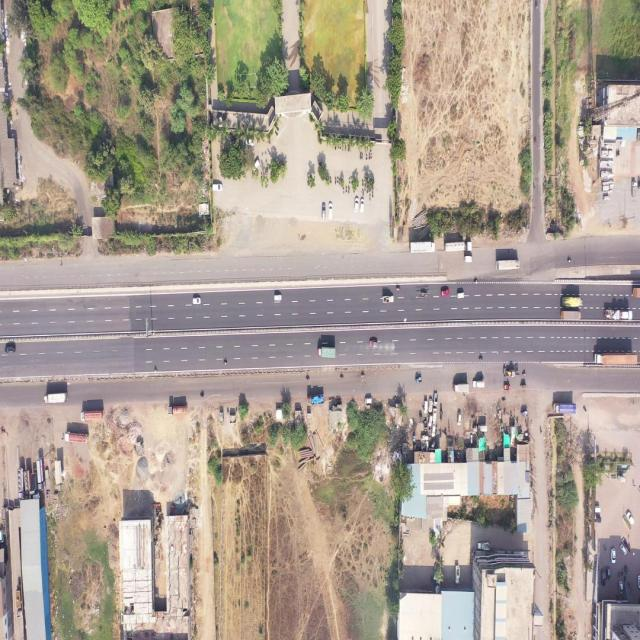3W: (520, 408, 529, 418), (414, 375, 423, 384), (503, 383, 510, 392), (520, 383, 527, 389)
Cars: (625, 506, 634, 526), (619, 541, 628, 556), (244, 135, 254, 147), (609, 546, 616, 563), (327, 201, 333, 220), (600, 567, 606, 586), (211, 182, 223, 191), (4, 344, 16, 353), (369, 337, 378, 349), (252, 158, 260, 171), (321, 201, 326, 220), (441, 289, 451, 298), (360, 197, 365, 213), (456, 291, 466, 299), (272, 294, 282, 302), (458, 411, 463, 426), (619, 580, 624, 595), (354, 197, 358, 213), (429, 398, 433, 414), (192, 297, 201, 304), (433, 410, 437, 425), (424, 400, 428, 414), (365, 398, 372, 406), (428, 415, 432, 427)
LCV: (477, 539, 491, 550), (455, 562, 461, 585), (382, 294, 395, 303), (417, 290, 431, 298), (473, 378, 486, 386), (463, 256, 473, 263)
M2W: (338, 372, 345, 381), (360, 371, 366, 380), (396, 284, 401, 293), (222, 359, 228, 365), (479, 354, 483, 363), (521, 371, 527, 376), (199, 393, 205, 398), (348, 176, 351, 185), (361, 177, 364, 186), (365, 152, 368, 161), (329, 176, 332, 184), (262, 173, 265, 181), (567, 257, 571, 263), (475, 279, 479, 285), (344, 144, 347, 151), (362, 151, 364, 161), (334, 175, 336, 184), (346, 184, 348, 193), (369, 193, 371, 202), (338, 176, 340, 185), (371, 152, 373, 160), (343, 187, 345, 195), (348, 186, 350, 194), (339, 144, 341, 151)
MAV: (593, 352, 639, 367), (604, 306, 634, 321), (443, 240, 472, 252)
Truck: (65, 429, 90, 444), (410, 241, 436, 254), (496, 258, 520, 272), (552, 401, 577, 414), (80, 410, 105, 422), (43, 392, 68, 404), (415, 261, 439, 273), (561, 296, 585, 307), (167, 403, 187, 416), (306, 392, 324, 406), (317, 346, 336, 358), (561, 311, 582, 321), (453, 380, 470, 391)
